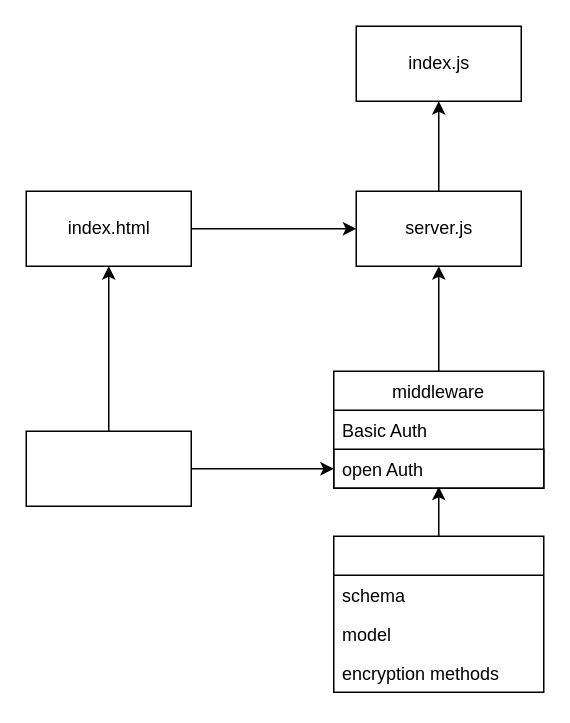
This 570x723 diagram has some shape labels left out. The box of each missing label's shape, as (x1, y1, x2, y2) in pixels:
Github: (25, 430, 191, 506)
user collection: (332, 535, 544, 692)
